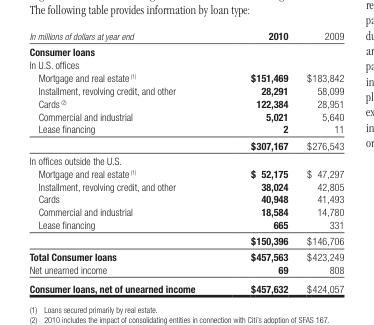table: (28, 29, 343, 293)
table column: (28, 29, 222, 293), (222, 29, 296, 293), (296, 29, 343, 293)
table column header: (28, 29, 343, 43)
table projected row header: (28, 43, 343, 58), (28, 152, 343, 166), (28, 58, 343, 70)
table row: (28, 136, 343, 152), (28, 232, 343, 248), (28, 262, 343, 278), (28, 43, 343, 58), (28, 217, 343, 232), (28, 278, 343, 293), (28, 29, 343, 43), (28, 122, 343, 136), (28, 152, 343, 166), (28, 248, 343, 262), (28, 70, 343, 83), (28, 83, 343, 96), (28, 96, 343, 109), (28, 109, 343, 122), (28, 166, 343, 179), (28, 179, 343, 192), (28, 192, 343, 205), (28, 58, 343, 70), (28, 205, 343, 217)
